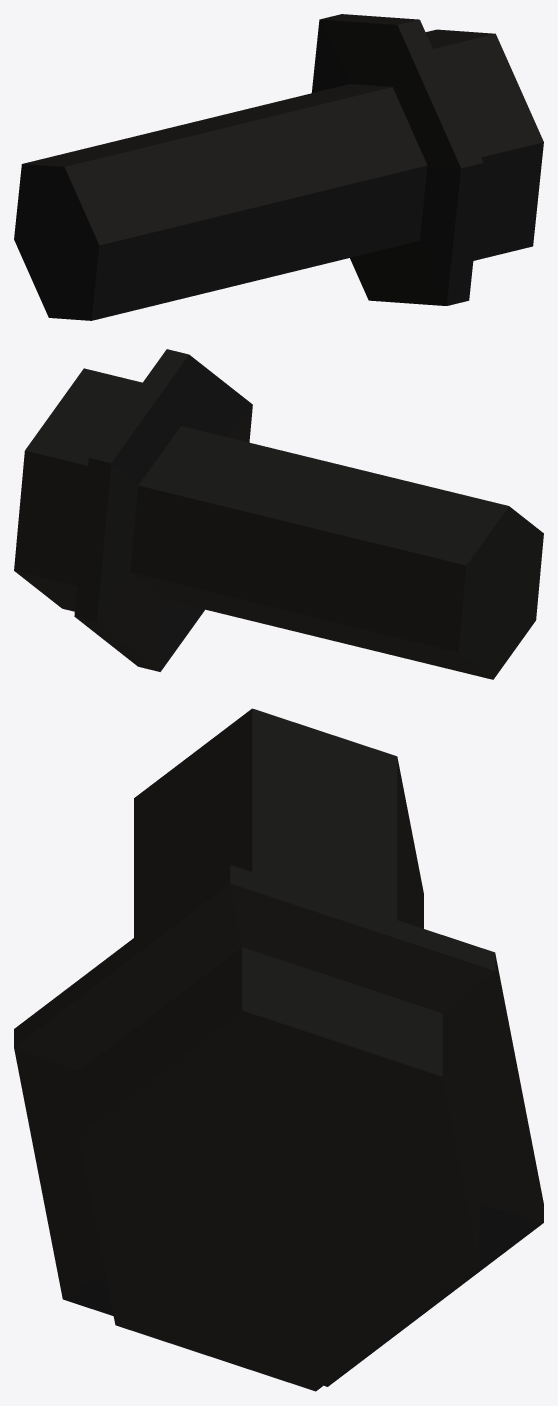
The model's file is Bolt.fbx.
3 renders of one model, top to bottom at view 1: azimuth 30°, elevation 25°; view 2: azimuth 150°, elevation 25°; view 3: azimuth 270°, elevation 25°, orthographic. The views are drawn at different scales.
Visible parts, largest first — view 1: Bolt; view 2: Bolt; view 3: Bolt.
Part boxes in pixels (<box>): Bolt: <box>14,14,543,320</box>; Bolt: <box>14,349,543,679</box>; Bolt: <box>14,708,543,1391</box>.
Size of the model in its own units: 2.85 by 1.88 by 1.8.
